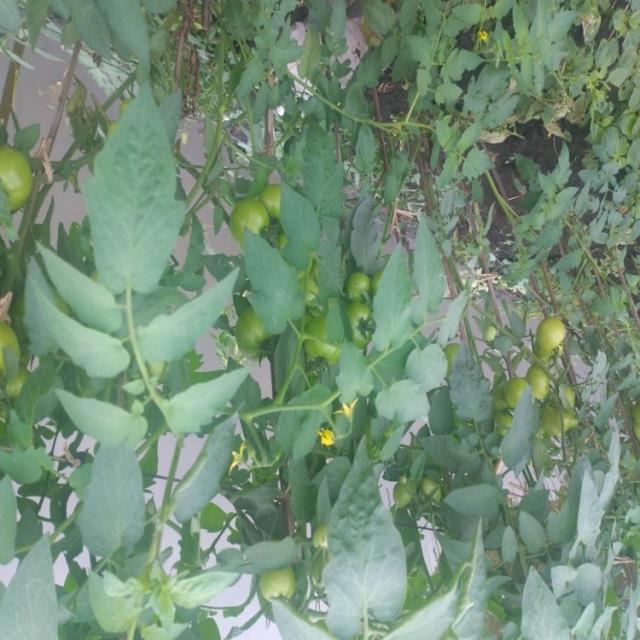tomato: (227, 307, 274, 377), (228, 199, 275, 255), (530, 311, 573, 370), (1, 143, 35, 215), (259, 565, 306, 613), (301, 321, 339, 372), (344, 307, 381, 354), (544, 406, 576, 448), (527, 365, 560, 401), (262, 179, 288, 223), (346, 264, 373, 302), (498, 370, 522, 408), (392, 483, 419, 515)
